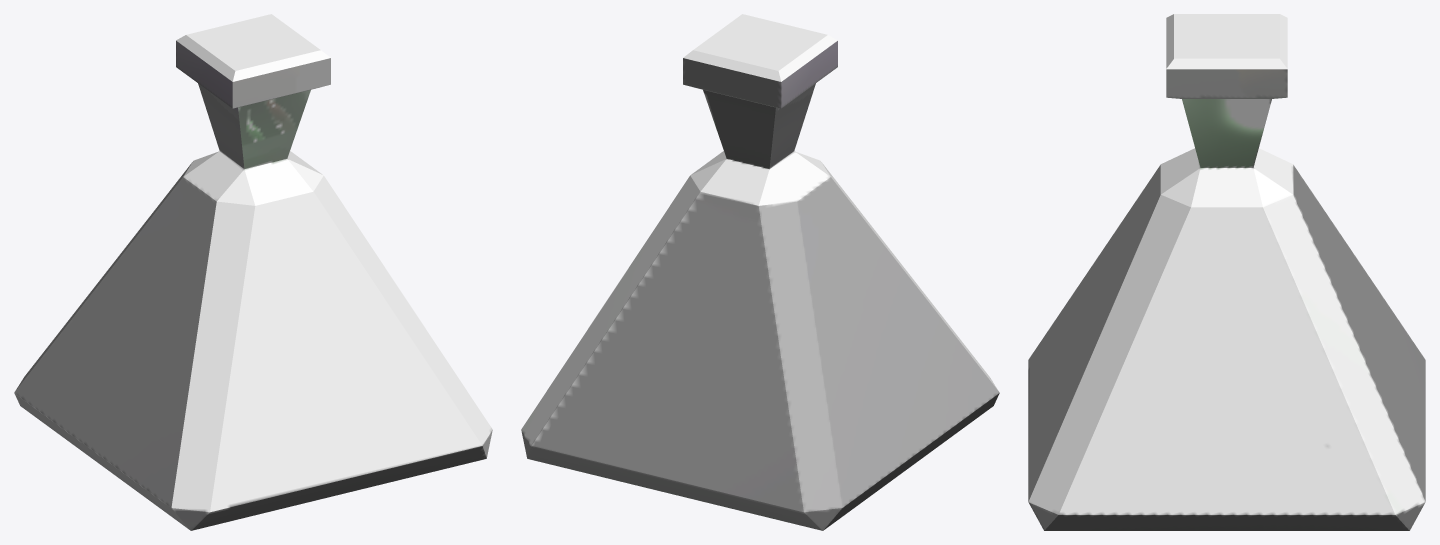
Rendered from Potions8.fbx.
3 renders of one model, left to right at view 1: azimuth 30°, elevation 25°; view 2: azimuth 150°, elevation 25°; view 3: azimuth 270°, elevation 25°, orthographic. The views are drawn at different scales.
Visible parts, largest first — view 1: Cylinder.003; view 2: Cylinder.003; view 3: Cylinder.003.
Boxes of the visible parts, x1=… form: Cylinder.003: x1=14, y1=14, x2=492, y2=530; Cylinder.003: x1=521, y1=14, x2=999, y2=530; Cylinder.003: x1=1028, y1=14, x2=1425, y2=530.
Bounding box in the file's own units: 51.06 × 59.2 × 51.06.
